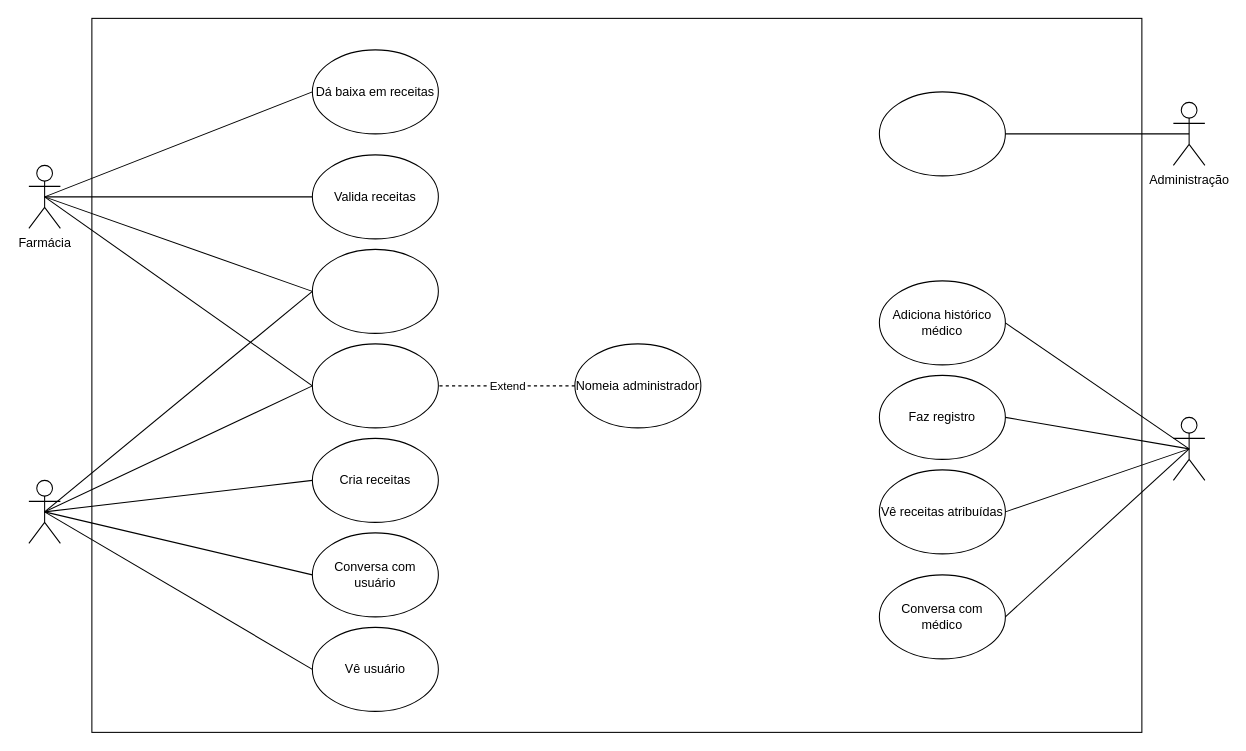
The diagram is 1246 pixels wide and 751 high, and some of its shapes have lost their labels. The box of each missing label's shape, as (x1, y1, x2, y2) in pixels:
Hospital/ Clínica: (28, 479, 60, 543)
Registra/Remove empresa: (878, 91, 1005, 176)
Registra/Remove funcionário: (311, 343, 438, 428)
Solicita Registro: (311, 248, 438, 333)
Usuário: (1172, 416, 1205, 480)
